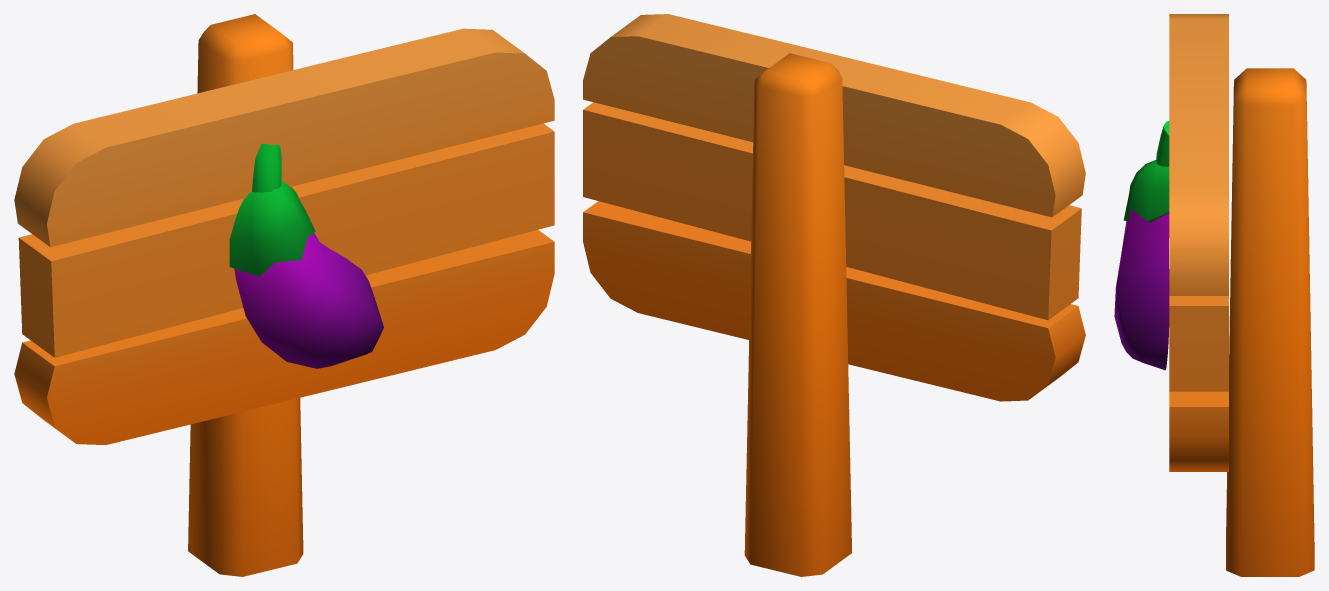
File: Farm_Crop_Sign_Eggplant_01.fbx
The picture shows the model from 3 angles, left to right: view 1: azimuth 30°, elevation 25°; view 2: azimuth 150°, elevation 25°; view 3: azimuth 270°, elevation 25°; orthographic projection. The views are drawn at different scales.
Parts seen in each view (by area): view 1: Farm_Crop_Sign_Eggplant_01; view 2: Farm_Crop_Sign_Eggplant_01; view 3: Farm_Crop_Sign_Eggplant_01.
Part boxes in pixels (x1,y1,x2,y2): Farm_Crop_Sign_Eggplant_01: (14, 14, 554, 576); Farm_Crop_Sign_Eggplant_01: (583, 14, 1085, 576); Farm_Crop_Sign_Eggplant_01: (1114, 14, 1314, 576).
Size of the model in its own units: 90.11 by 88.8 by 33.57.
